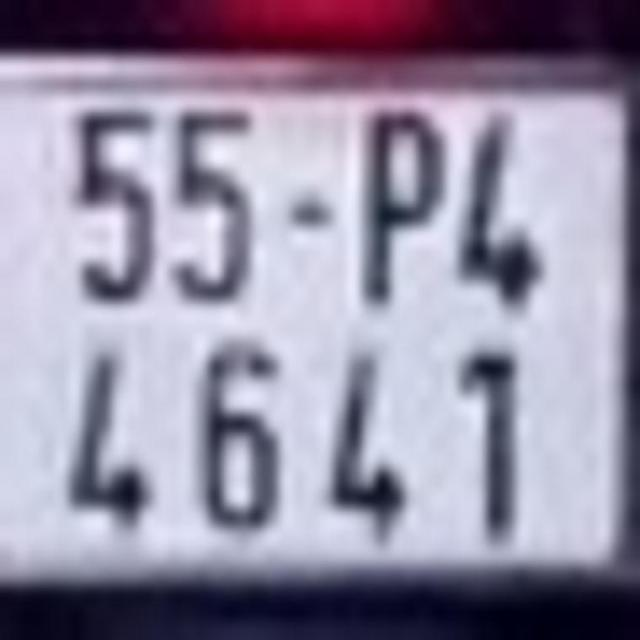1: (446, 338, 534, 545)
4: (64, 340, 162, 542), (324, 338, 416, 549), (457, 100, 548, 312)
5: (72, 97, 162, 305), (169, 100, 259, 306)
6: (190, 324, 288, 534)
P: (354, 98, 449, 303)
